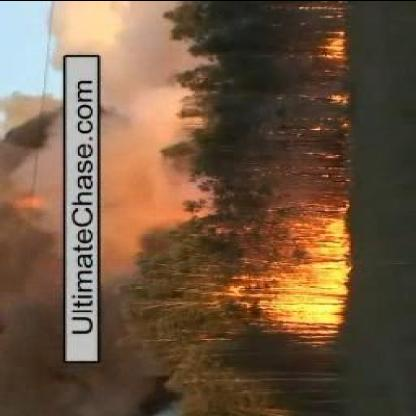-: (5, 98, 57, 322), (100, 64, 150, 246)
foggia-v2-map80-epoch100 - v1 4323: (274, 270, 338, 321)
